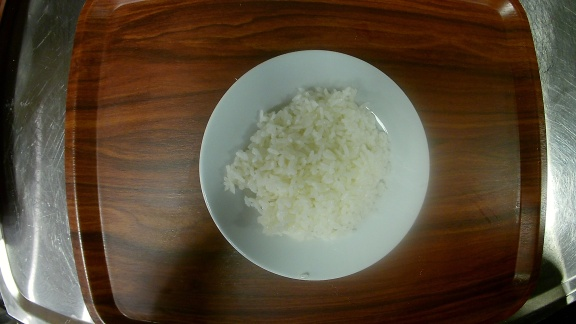pilav: (199, 49, 430, 281)
